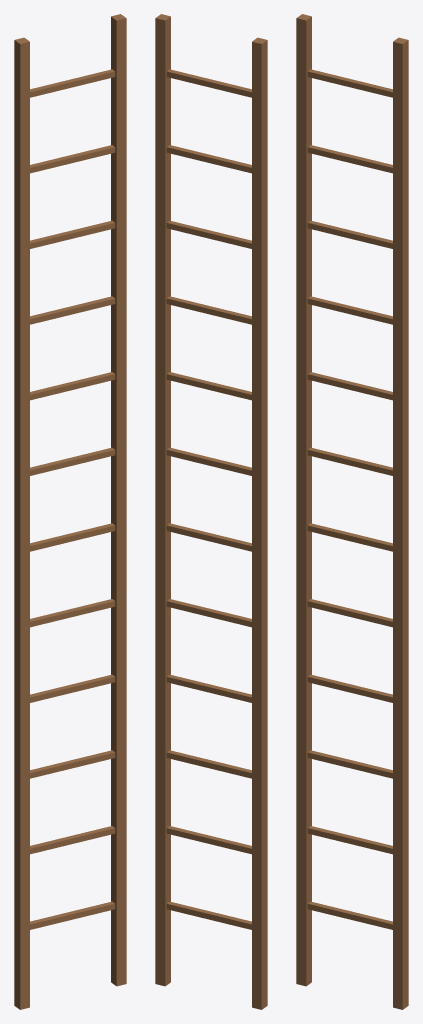
File: Ladder_1 Large.fbx
3 renders of one model, left to right at view 1: azimuth 30°, elevation 25°; view 2: azimuth 150°, elevation 25°; view 3: azimuth 330°, elevation 25°, orthographic.
Visible parts, largest first — view 1: Ladder1Large_mesh; view 2: Ladder1Large_mesh; view 3: Ladder1Large_mesh.
Boxes of the visible parts, x1,y1,x2,y2 form: Ladder1Large_mesh: [14, 14, 126, 1009]; Ladder1Large_mesh: [155, 14, 267, 1009]; Ladder1Large_mesh: [296, 14, 408, 1009].
Bounding box in the file's own units: 94.14 × 817 × 8.78.
